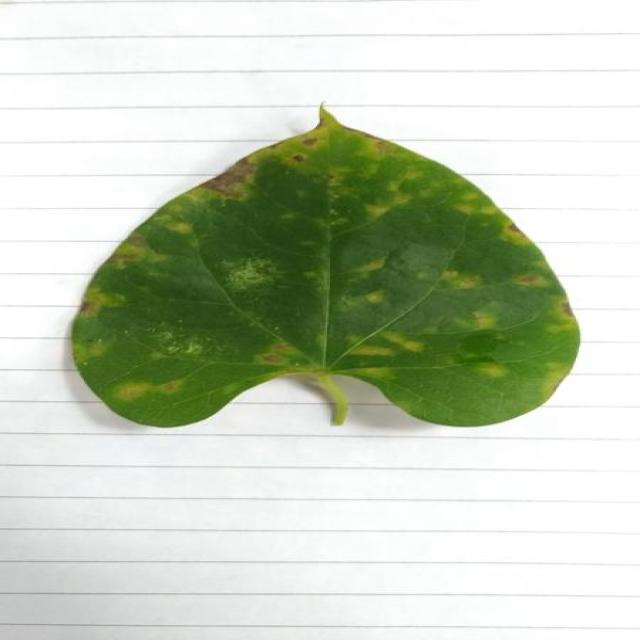Amruthaballi: (72, 108, 580, 426)
disease in leaf: (73, 171, 580, 426)
